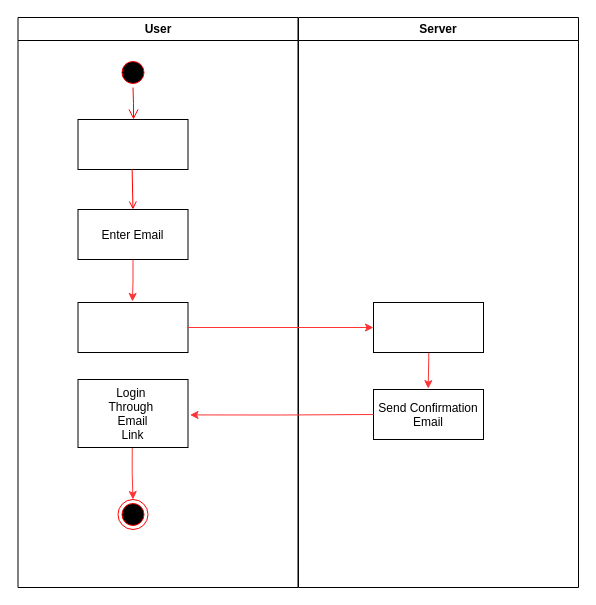
Some shapes in this 596 by 605 pixel diagram are drawn without their labels. Each missing label, with the centre of its shape:
Enter Password: [132,327]
Receive Request: [428,327]
Sign Up: [132,144]
